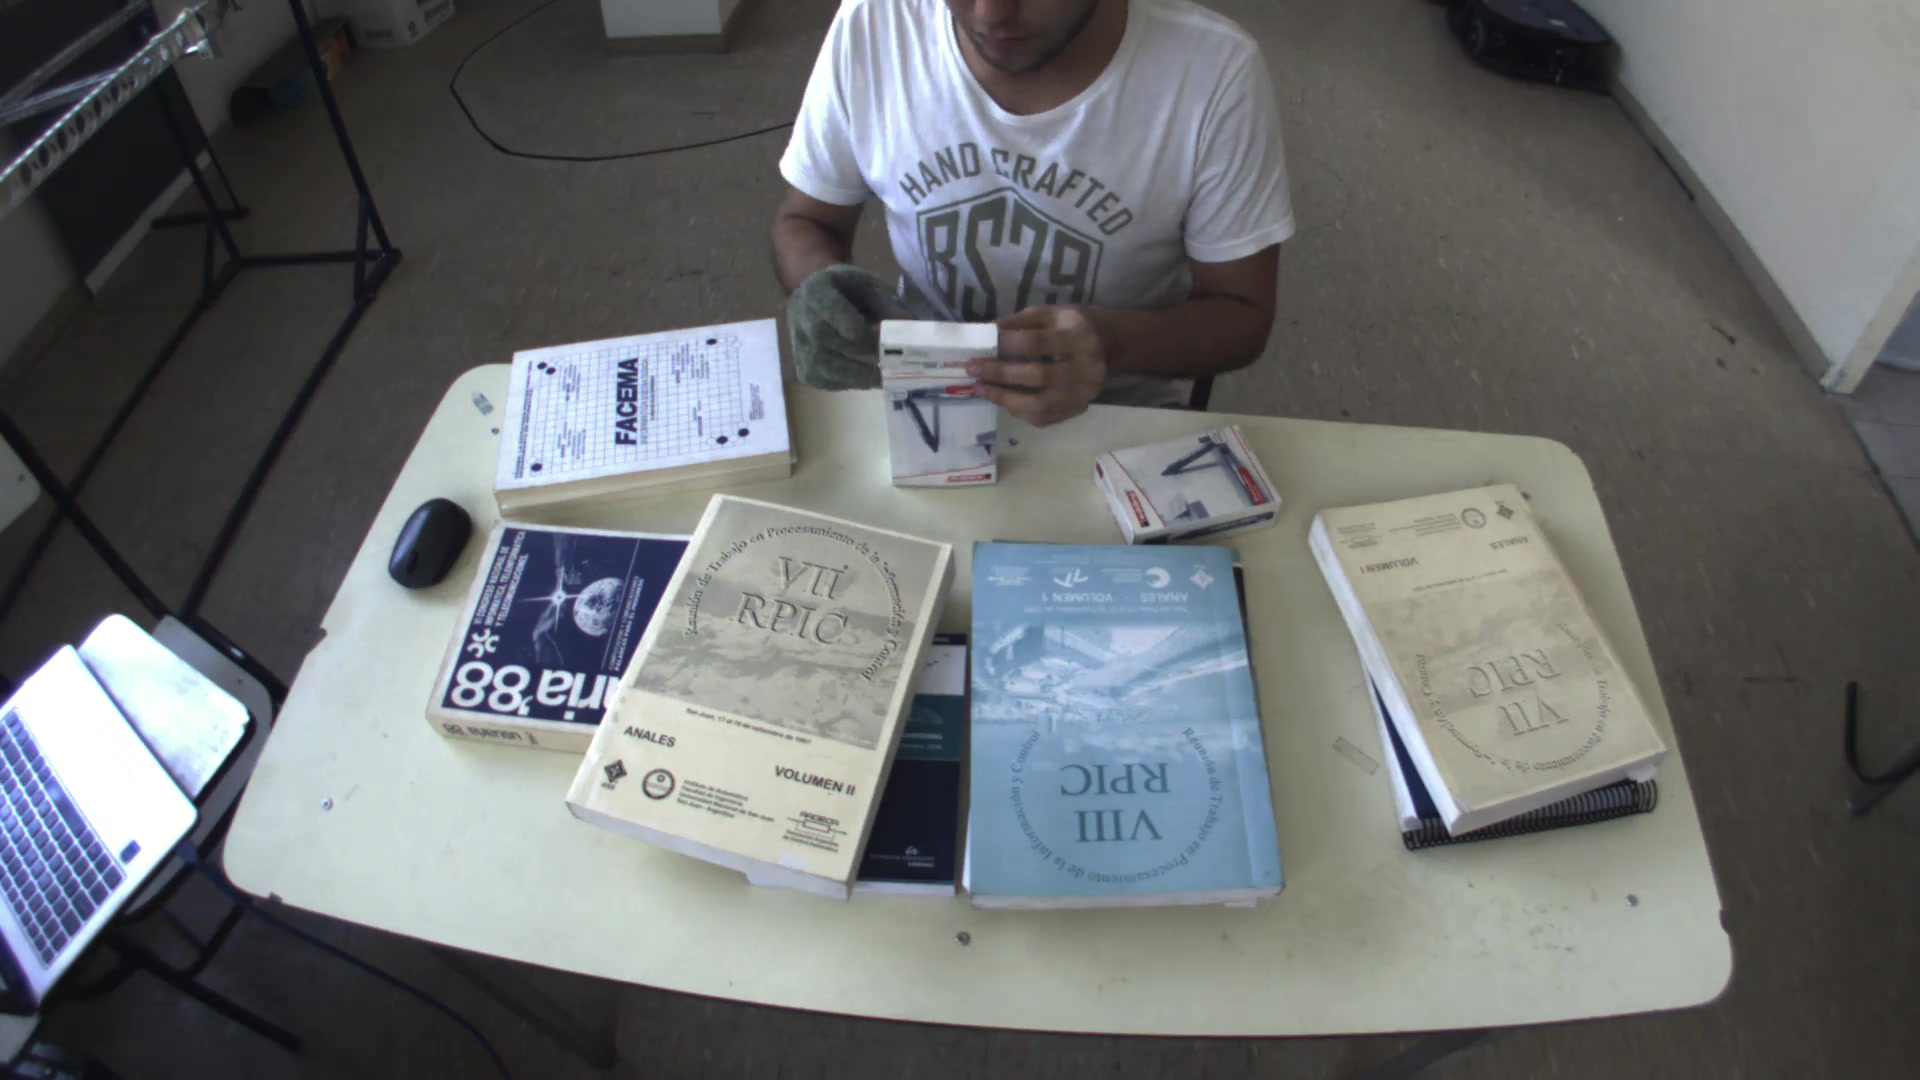hand: (951, 291, 1122, 433), (769, 266, 901, 385)
